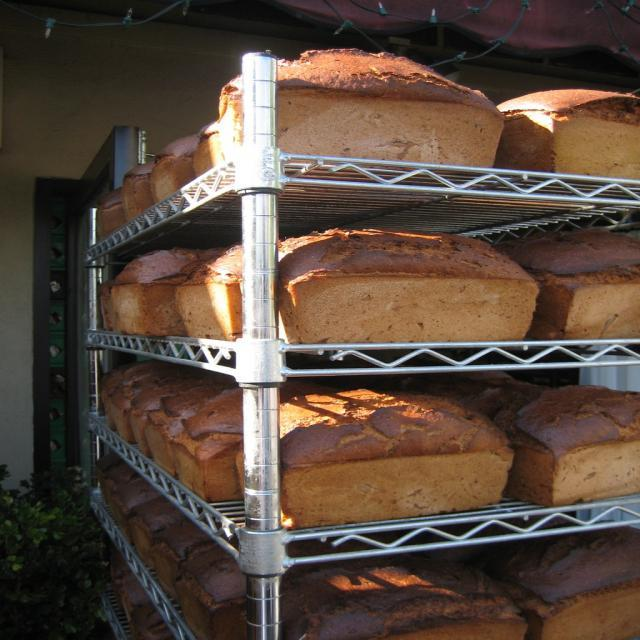Bread: (495, 381, 625, 509)
